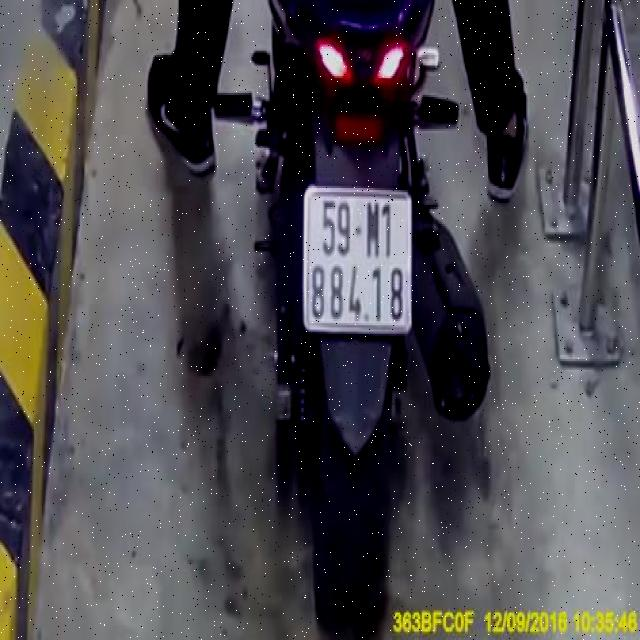1: (370, 264, 383, 322), (381, 202, 393, 261)
4: (347, 264, 362, 323)
5: (321, 198, 336, 255)
8: (388, 266, 405, 324), (329, 264, 344, 325), (312, 259, 326, 318)
9: (337, 200, 351, 257)
M: (365, 201, 381, 260)
